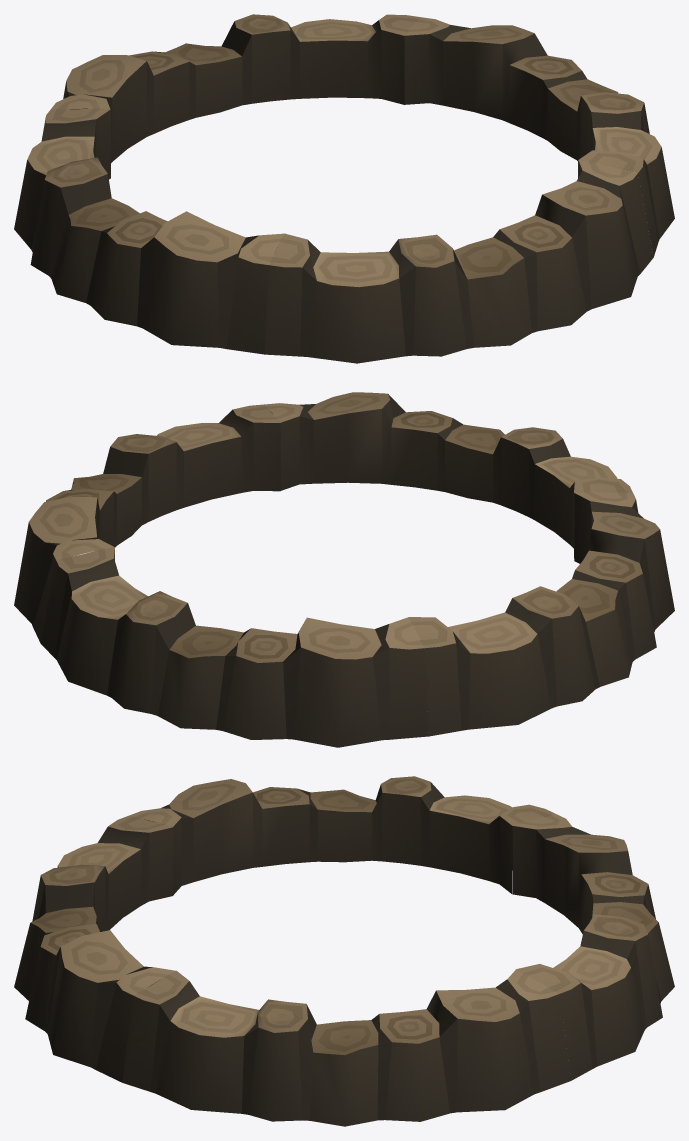
The model's file is orc_trunk_berm_L.fbx.
3 views of the same model, one above another, from view 1: azimuth 30°, elevation 25°; view 2: azimuth 150°, elevation 25°; view 3: azimuth 270°, elevation 25° (orthographic).
Visible parts, largest first — view 1: orc_trunk_berm_L; view 2: orc_trunk_berm_L; view 3: orc_trunk_berm_L.
Boxes of the visible parts, left/top/right/bottom form: orc_trunk_berm_L: left=14, top=14, right=674, bottom=363; orc_trunk_berm_L: left=14, top=392, right=674, bottom=747; orc_trunk_berm_L: left=14, top=776, right=674, bottom=1126.
Size of the model in its own units: 722 by 115 by 722.
